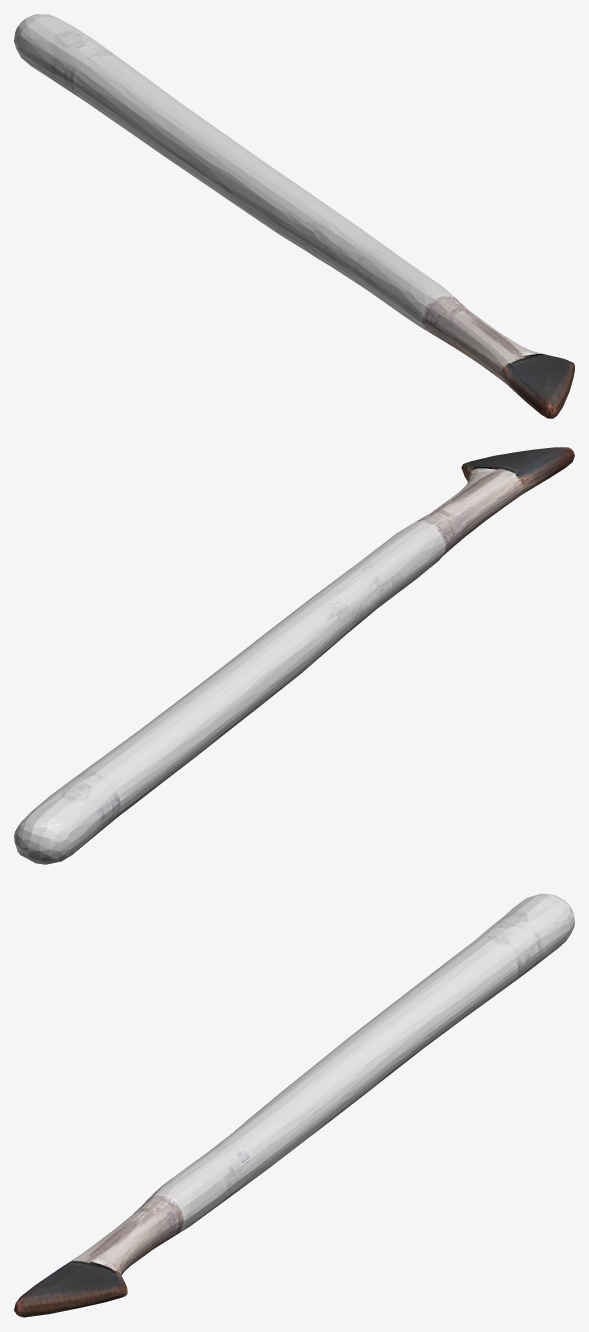
3 renders of one model, top to bottom at view 1: azimuth 30°, elevation 25°; view 2: azimuth 150°, elevation 25°; view 3: azimuth 330°, elevation 25°, orthographic. The views are drawn at different scales.
Visible parts, largest first — view 1: geometry_0; view 2: geometry_0; view 3: geometry_0.
Boxes of the visible parts, left/top/right/bottom form: geometry_0: left=14, top=14, right=574, bottom=418; geometry_0: left=14, top=447, right=574, bottom=864; geometry_0: left=14, top=893, right=574, bottom=1317.
Bounding box in the file's own units: 0.1005 × 0.0496 × 0.9967.
Materials: 1 (1 with a texture image).
